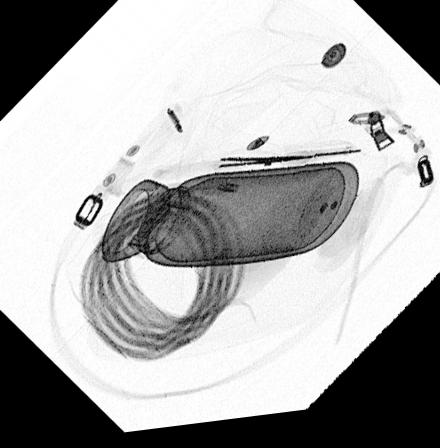Scissors: (149, 155, 364, 190)
